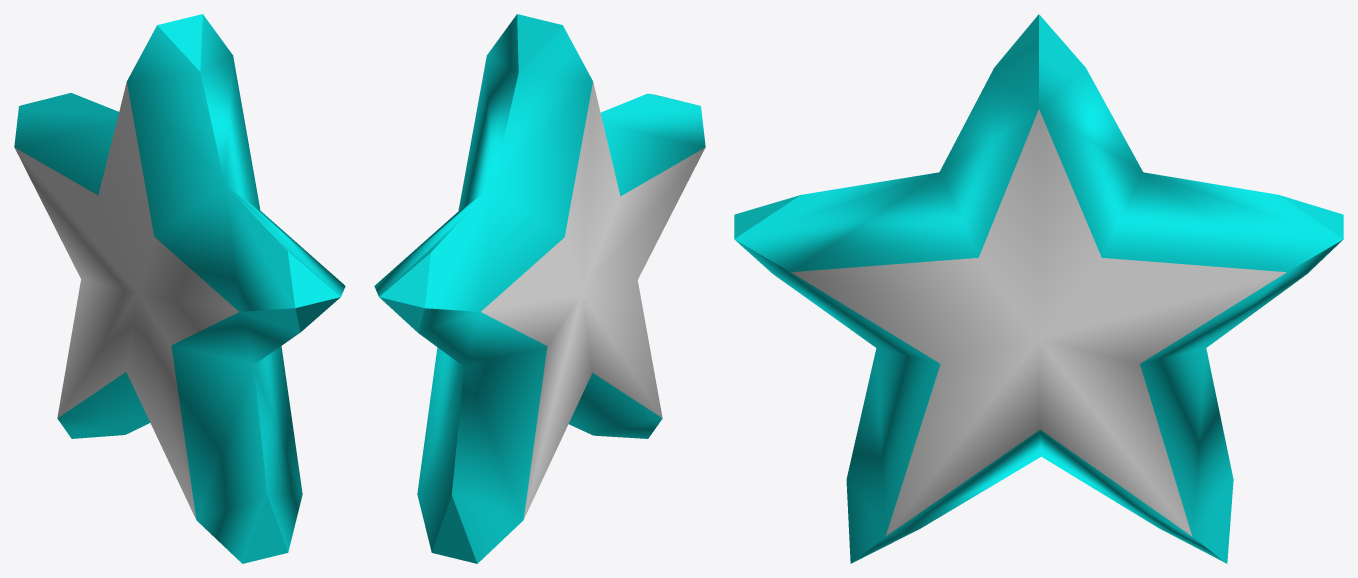
File: bstar.fbx
3 views of the same model, side by side, from view 1: azimuth 30°, elevation 25°; view 2: azimuth 150°, elevation 25°; view 3: azimuth 270°, elevation 25° (orthographic). The views are drawn at different scales.
Visible parts, largest first — view 1: pSphere1; view 2: pSphere1; view 3: pSphere1.
Boxes of the visible parts, left/top/right/bottom form: pSphere1: left=14, top=14, right=345, bottom=563; pSphere1: left=374, top=14, right=705, bottom=563; pSphere1: left=734, top=14, right=1343, bottom=563.
Size of the model in its own units: 0.187 by 0.8005 by 0.8417.
